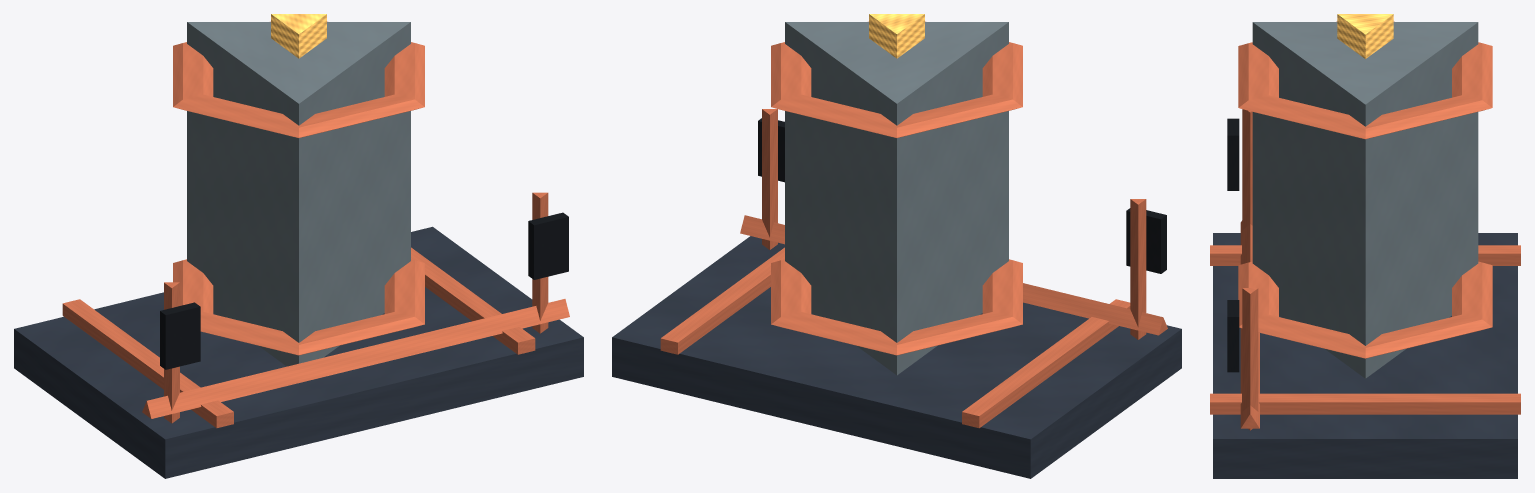
Rendered from atlas100-s023-a01.lod2.glb.
The picture shows the model from 3 angles, left to right: view 1: azimuth 30°, elevation 25°; view 2: azimuth 150°, elevation 25°; view 3: azimuth 270°, elevation 25°; orthographic projection.
Parts seen in each view (by area): view 1: atlas100-s023-a01:part-003, atlas100-s023-a01:part-000, atlas100-s023-a01:part-005, atlas100-s023-a01:part-012, atlas100-s023-a01:part-004, atlas100-s023-a01:part-001, atlas100-s023-a01:part-002, atlas100-s023-a01:part-009, atlas100-s023-a01:part-011, atlas100-s023-a01:part-006, atlas100-s023-a01:part-010, atlas100-s023-a01:part-008; view 2: atlas100-s023-a01:part-003, atlas100-s023-a01:part-000, atlas100-s023-a01:part-004, atlas100-s023-a01:part-005, atlas100-s023-a01:part-001, atlas100-s023-a01:part-012, atlas100-s023-a01:part-002, atlas100-s023-a01:part-008, atlas100-s023-a01:part-010, atlas100-s023-a01:part-006, atlas100-s023-a01:part-009, atlas100-s023-a01:part-011; view 3: atlas100-s023-a01:part-003, atlas100-s023-a01:part-000, atlas100-s023-a01:part-005, atlas100-s023-a01:part-004, atlas100-s023-a01:part-002, atlas100-s023-a01:part-010, atlas100-s023-a01:part-006, atlas100-s023-a01:part-001, atlas100-s023-a01:part-008, atlas100-s023-a01:part-012, atlas100-s023-a01:part-009, atlas100-s023-a01:part-011.
Part boxes in pixels (left/top/right/bottom): atlas100-s023-a01:part-003: left=187, top=22, right=410, bottom=366; atlas100-s023-a01:part-000: left=14, top=226, right=583, bottom=478; atlas100-s023-a01:part-005: left=173, top=21, right=424, bottom=137; atlas100-s023-a01:part-012: left=142, top=299, right=569, bottom=418; atlas100-s023-a01:part-004: left=173, top=259, right=424, bottom=355; atlas100-s023-a01:part-001: left=62, top=299, right=233, bottom=428; atlas100-s023-a01:part-002: left=411, top=247, right=535, bottom=354; atlas100-s023-a01:part-009: left=160, top=302, right=200, bottom=369; atlas100-s023-a01:part-011: left=528, top=212, right=568, bottom=279; atlas100-s023-a01:part-006: left=271, top=14, right=326, bottom=58; atlas100-s023-a01:part-010: left=532, top=192, right=548, bottom=333; atlas100-s023-a01:part-008: left=164, top=282, right=179, bottom=423; atlas100-s023-a01:part-003: left=785, top=22, right=1008, bottom=375; atlas100-s023-a01:part-000: left=612, top=236, right=1181, bottom=478; atlas100-s023-a01:part-004: left=771, top=259, right=1022, bottom=355; atlas100-s023-a01:part-005: left=771, top=21, right=1022, bottom=137; atlas100-s023-a01:part-001: left=962, top=299, right=1130, bottom=428; atlas100-s023-a01:part-012: left=740, top=215, right=1167, bottom=335; atlas100-s023-a01:part-002: left=660, top=247, right=784, bottom=354; atlas100-s023-a01:part-008: left=1130, top=199, right=1146, bottom=339; atlas100-s023-a01:part-010: left=762, top=109, right=777, bottom=249; atlas100-s023-a01:part-006: left=869, top=14, right=924, bottom=58; atlas100-s023-a01:part-009: left=1126, top=208, right=1166, bottom=273; atlas100-s023-a01:part-011: left=758, top=118, right=784, bottom=182; atlas100-s023-a01:part-003: left=1252, top=22, right=1478, bottom=378; atlas100-s023-a01:part-000: left=1213, top=233, right=1517, bottom=478; atlas100-s023-a01:part-005: left=1238, top=21, right=1492, bottom=139; atlas100-s023-a01:part-004: left=1238, top=261, right=1492, bottom=358; atlas100-s023-a01:part-002: left=1210, top=393, right=1520, bottom=414; atlas100-s023-a01:part-010: left=1242, top=288, right=1258, bottom=430; atlas100-s023-a01:part-006: left=1337, top=14, right=1393, bottom=58; atlas100-s023-a01:part-001: left=1210, top=245, right=1520, bottom=265; atlas100-s023-a01:part-008: left=1242, top=109, right=1252, bottom=230; atlas100-s023-a01:part-012: left=1240, top=220, right=1259, bottom=428; atlas100-s023-a01:part-009: left=1227, top=118, right=1239, bottom=190; atlas100-s023-a01:part-011: left=1227, top=300, right=1239, bottom=372.
Size of the model in its own units: 2.88 by 2.31 by 1.84.
Materials: 5 (5 with a texture image).
